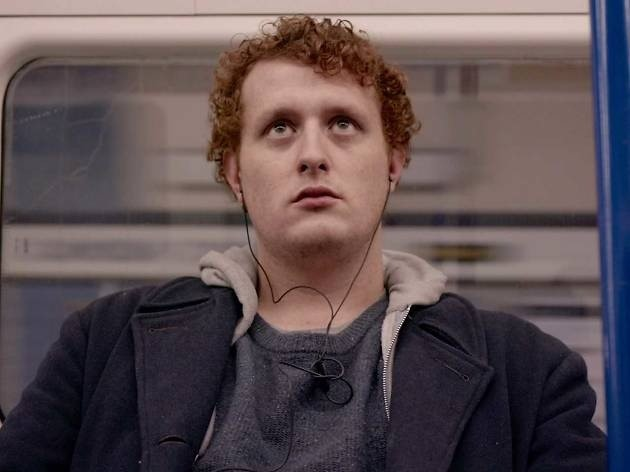face_no_mask: (221, 25, 406, 250)
